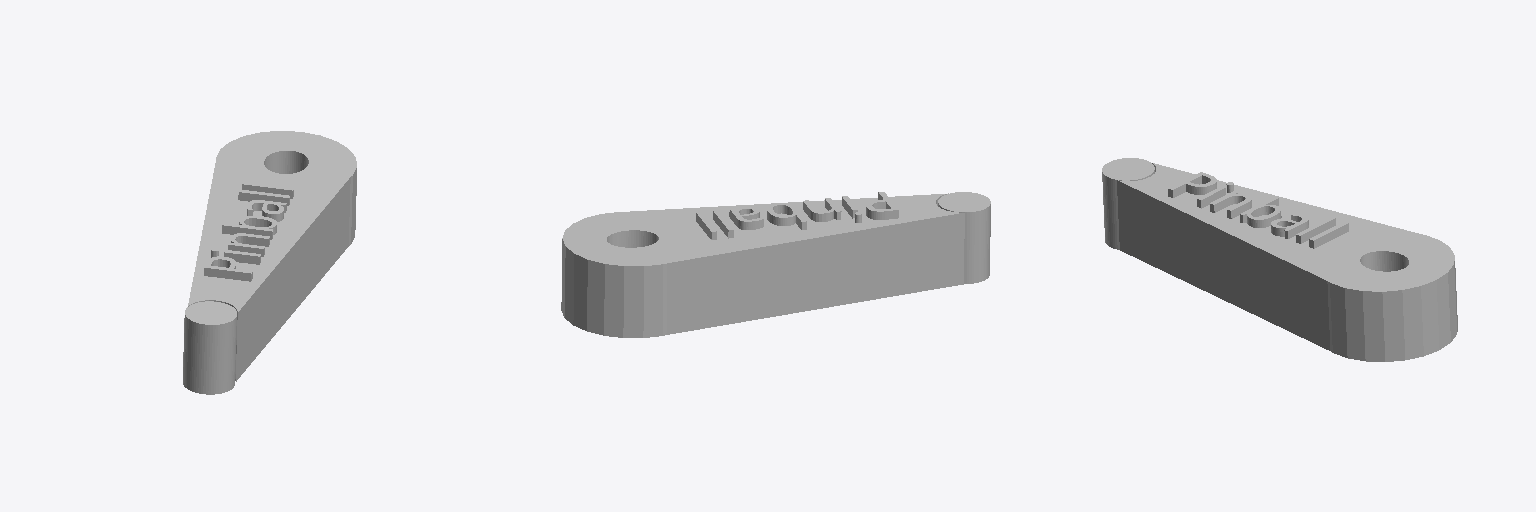
Rendered from RightPaddle.obj.
The picture shows the model from 3 angles: view 1: azimuth 30°, elevation 25°; view 2: azimuth 150°, elevation 25°; view 3: azimuth 270°, elevation 25°; orthographic projection.
Parts seen in each view (by area): view 1: RightPaddle; view 2: RightPaddle; view 3: RightPaddle.
Part boxes in pixels (bbox=[...]): RightPaddle: bbox=[183, 131, 356, 394]; RightPaddle: bbox=[561, 192, 990, 337]; RightPaddle: bbox=[1102, 158, 1457, 361].
Bounding box in the file's own units: 25.64 × 7.44 × 27.41.